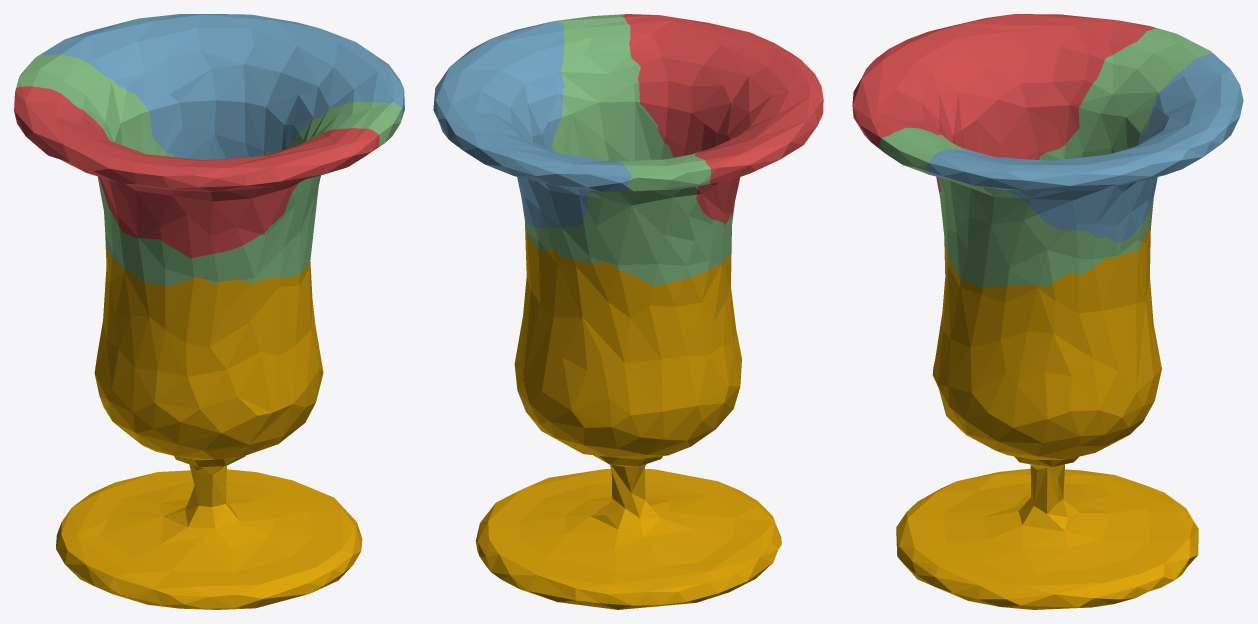
File: fractured_6_4pcs.glb
The picture shows the model from 3 angles, left to right: view 1: azimuth 30°, elevation 25°; view 2: azimuth 150°, elevation 25°; view 3: azimuth 270°, elevation 25°; orthographic projection.
Parts seen in each view (by area): view 1: piece_0.obj, piece_2.obj, piece_1.obj, piece_3.obj; view 2: piece_0.obj, piece_3.obj, piece_1.obj, piece_2.obj; view 3: piece_0.obj, piece_1.obj, piece_3.obj, piece_2.obj.
Boxes of the visible parts, left/top/right/bottom form: piece_0.obj: left=56, top=245, right=362, bottom=609; piece_2.obj: left=40, top=14, right=404, bottom=160; piece_1.obj: left=14, top=86, right=379, bottom=258; piece_3.obj: left=16, top=54, right=402, bottom=286; piece_0.obj: left=475, top=225, right=781, bottom=609; piece_3.obj: left=524, top=14, right=734, bottom=286; piece_1.obj: left=622, top=14, right=823, bottom=225; piece_2.obj: left=433, top=20, right=630, bottom=228; piece_0.obj: left=896, top=224, right=1198, bottom=609; piece_1.obj: left=852, top=14, right=1155, bottom=191; piece_3.obj: left=879, top=28, right=1212, bottom=288; piece_2.obj: left=926, top=53, right=1243, bottom=243.
Bounding box in the file's own units: 0.7742 × 1 × 0.7773.
